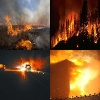fire: (0, 15, 50, 35), (69, 55, 92, 96), (82, 22, 99, 44), (14, 38, 32, 50), (53, 34, 62, 47), (20, 63, 33, 72), (68, 22, 74, 32), (65, 32, 68, 41), (76, 31, 79, 36), (77, 45, 78, 47)
